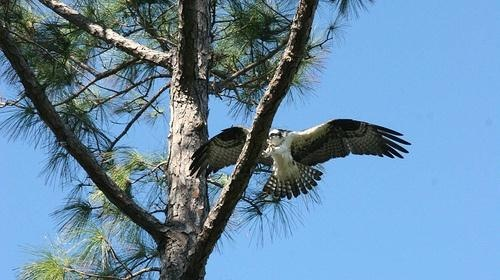bird: (192, 117, 412, 206)
